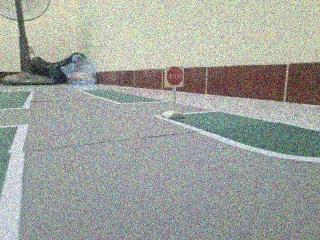stop: (162, 62, 187, 88)
